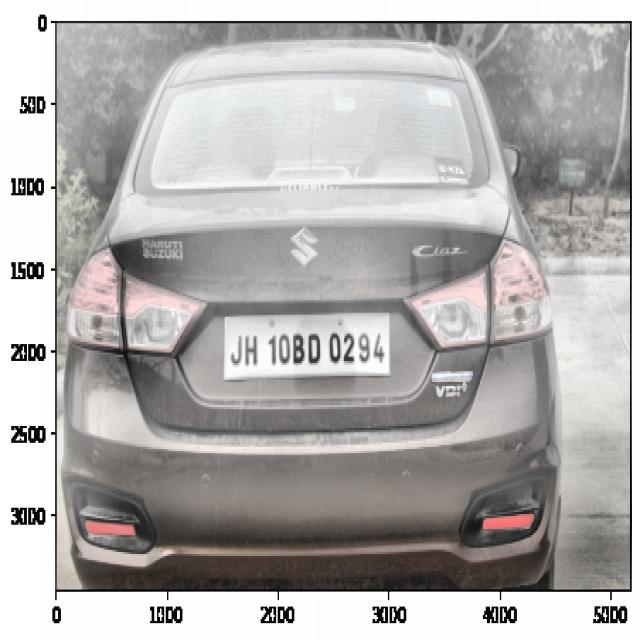license_plate: (226, 315, 392, 380)
